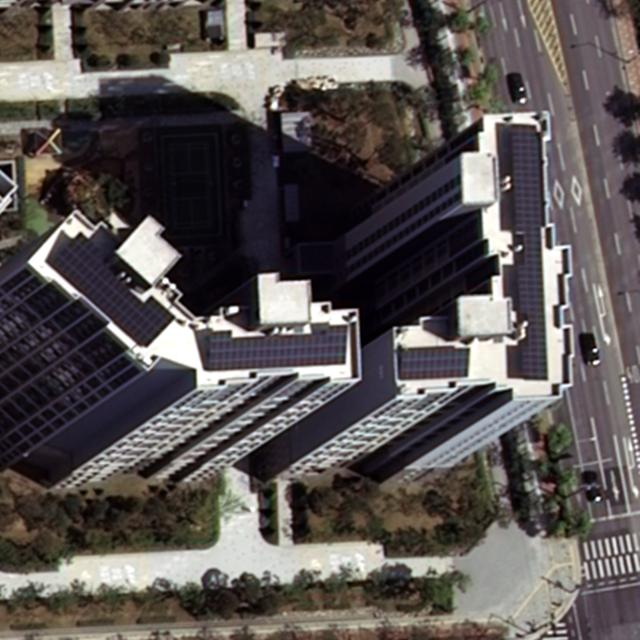panel: (49, 229, 176, 349), (507, 127, 553, 383), (209, 329, 351, 368), (397, 346, 469, 379)
